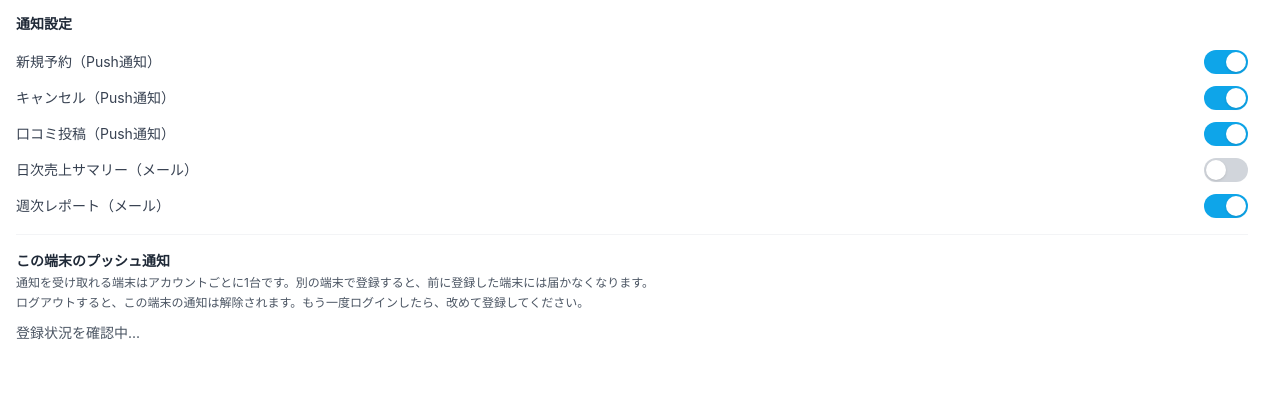
upsert 失敗 → トグルを元に戻しエラー表示（成功偽装防止・回帰防止）
The image size is (1265, 405).
Click the switch named "新規予約（Push通知）".
click(1226, 62)  # box [1204,50,1248,74]
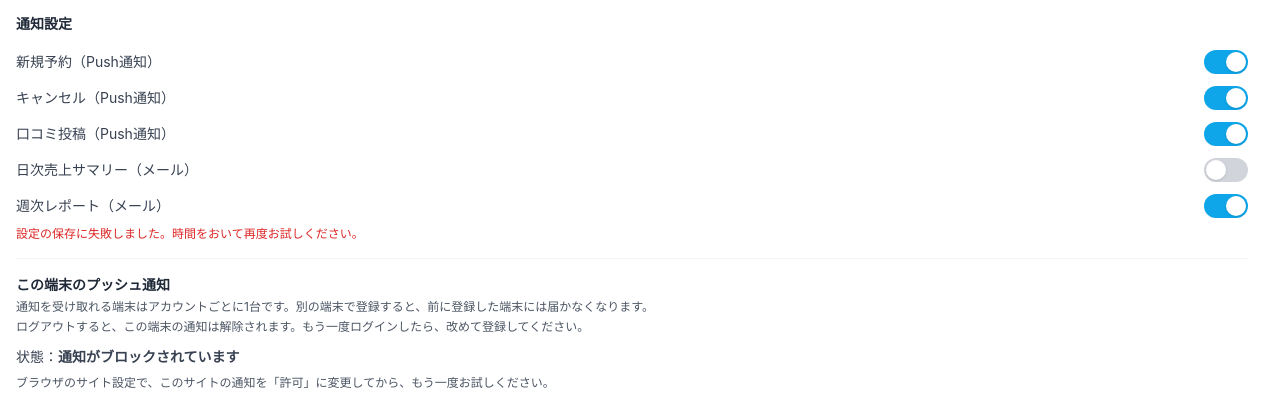
Result: the message shows "設定の保存に失敗しました" at [16,226,364,241]
